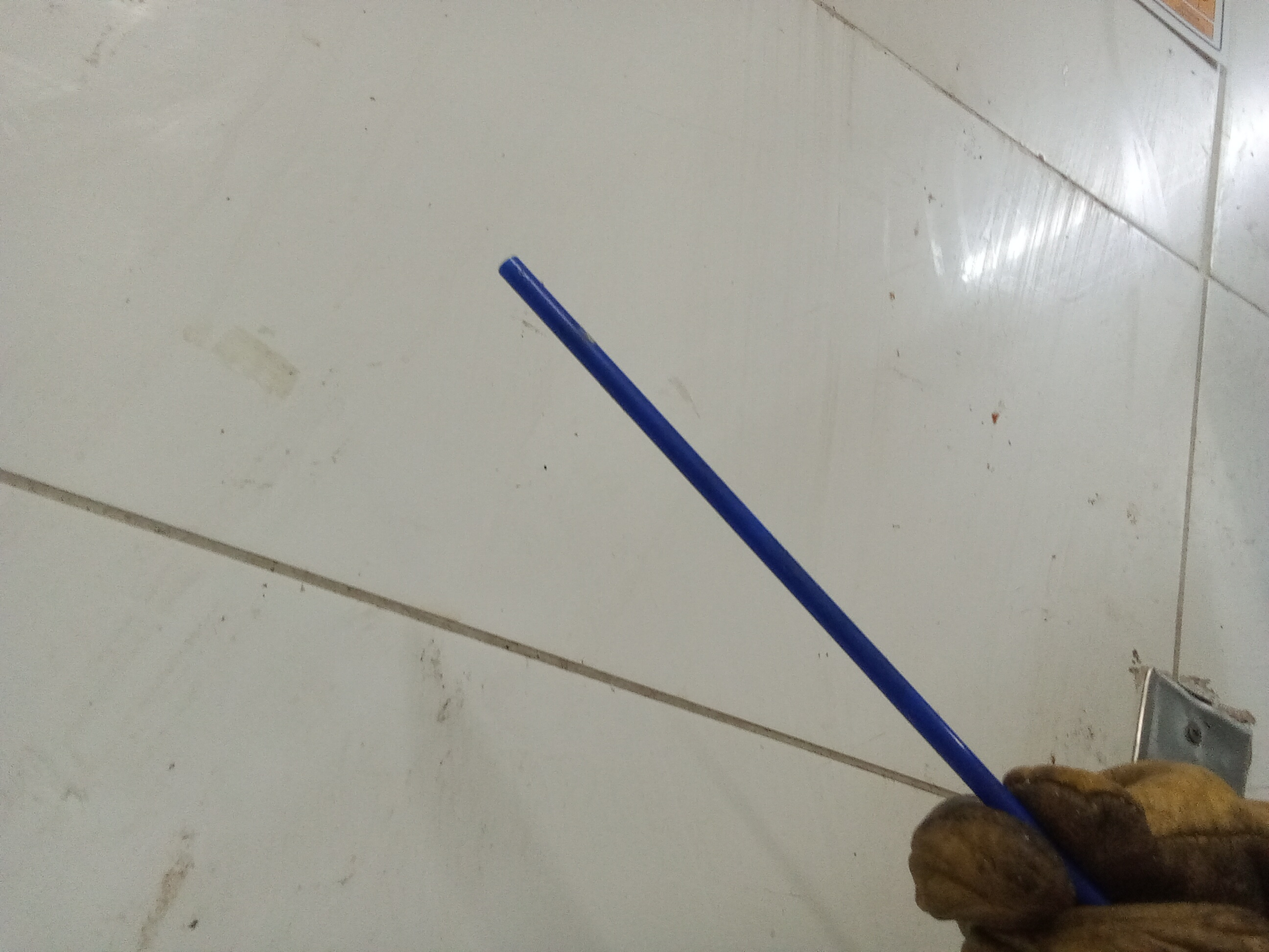Plastico: (498, 256, 1027, 813)
